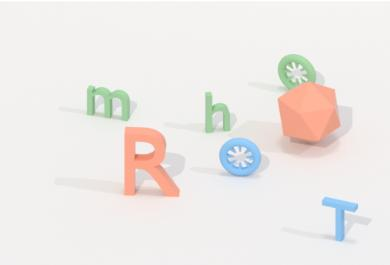0-TronLo: (215, 135, 263, 181), (275, 50, 320, 95)
R: (122, 122, 182, 201)
T: (318, 191, 363, 245)
h: (202, 89, 235, 135)
m: (83, 81, 133, 124)
